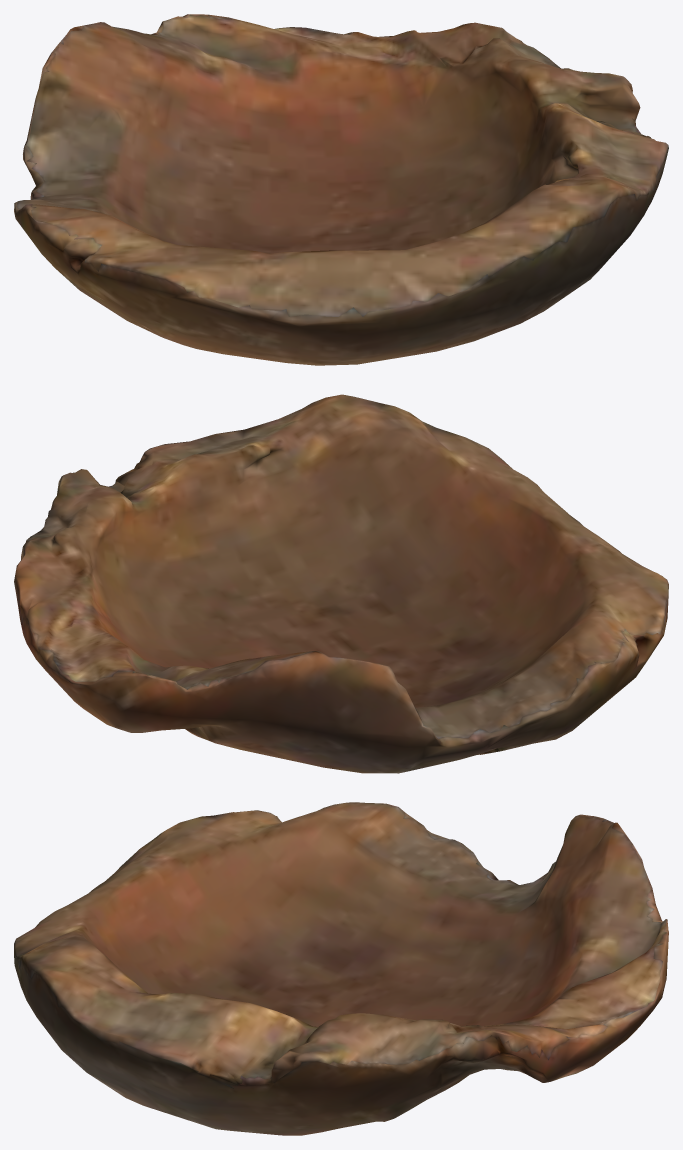
File: wooden_bowl_01.glb
The picture shows the model from 3 angles, top to bottom: view 1: azimuth 30°, elevation 25°; view 2: azimuth 150°, elevation 25°; view 3: azimuth 270°, elevation 25°; orthographic projection. The views are drawn at different scales.
Visible parts, largest first — view 1: wooden_bowl_01; view 2: wooden_bowl_01; view 3: wooden_bowl_01.
Part boxes in pixels (<box>): wooden_bowl_01: <box>14,14,668,365</box>; wooden_bowl_01: <box>14,394,668,773</box>; wooden_bowl_01: <box>14,802,668,1135</box>.
Bounding box in the file's own units: 0.313 × 0.0935 × 0.3088.
1 material, 1 textured.
